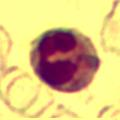eosi: (29, 24, 100, 93)
